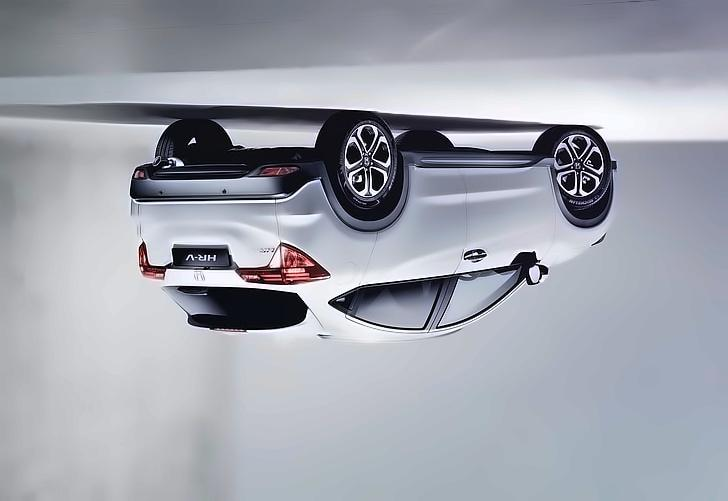Car boot: (135, 187, 288, 334)
Fender - -F-L-: (537, 163, 617, 279)
Fender - -R-L-: (271, 179, 380, 328)
Passenger-s door - -F-L-: (425, 150, 553, 342)
Passenger-s door - -R-L-: (322, 145, 472, 343)
Rear bumper: (129, 143, 329, 207)
Rear light - -L-: (233, 242, 334, 285)
Rear light - -R-: (137, 238, 168, 280)
Side bumper - -L-: (386, 133, 556, 199)
Side mirror - -L-: (523, 258, 548, 289)
